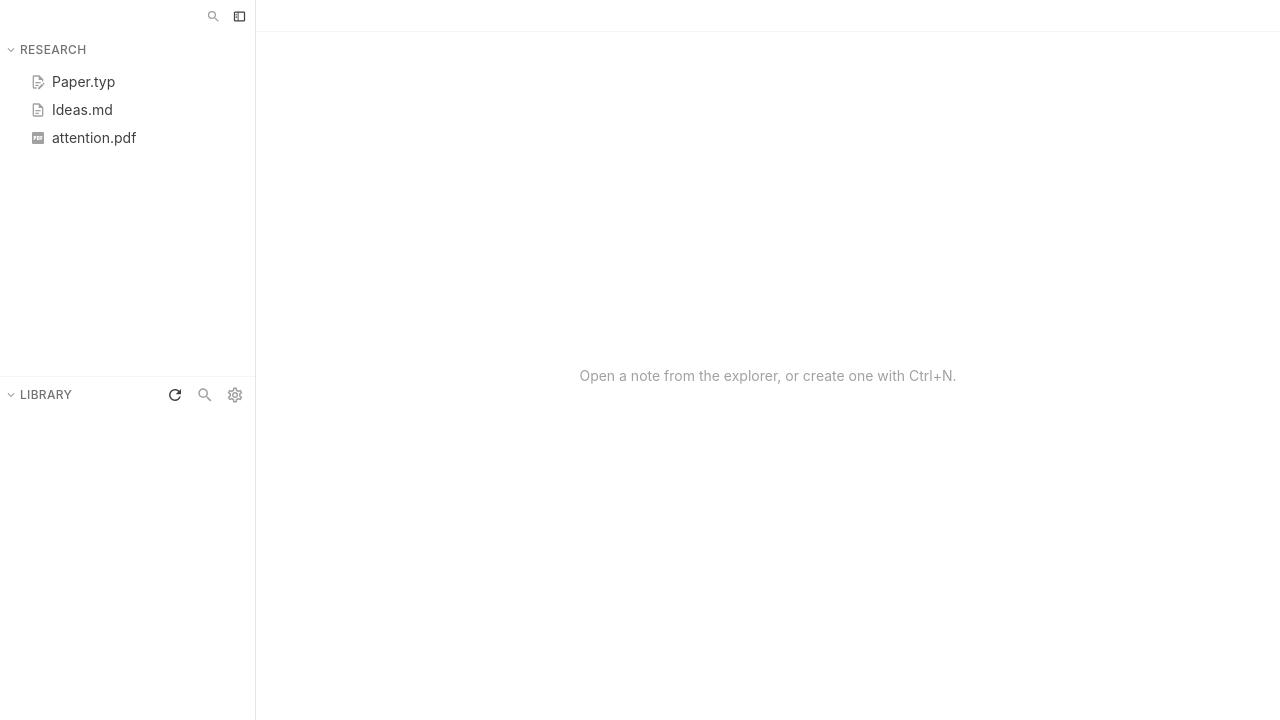
Test: Deleting a file from the explorer › confirming deletes it, and it leaves the explorer
Check: the text "Paper.typ" is shown, box [52,72,115,92]
Right-click the button "attention.pdf" at (128, 138), box [6,124,249,152]
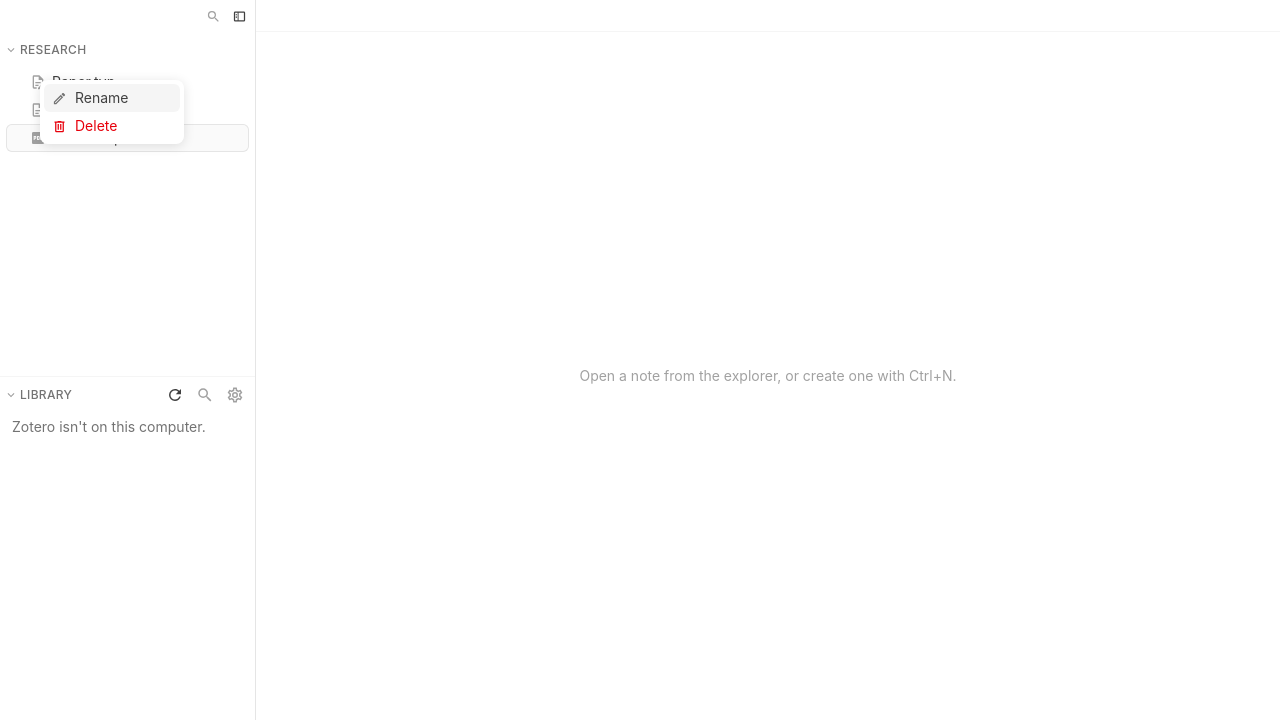
Click the menu item "Delete" at (112, 126), box [44,112,180,140]
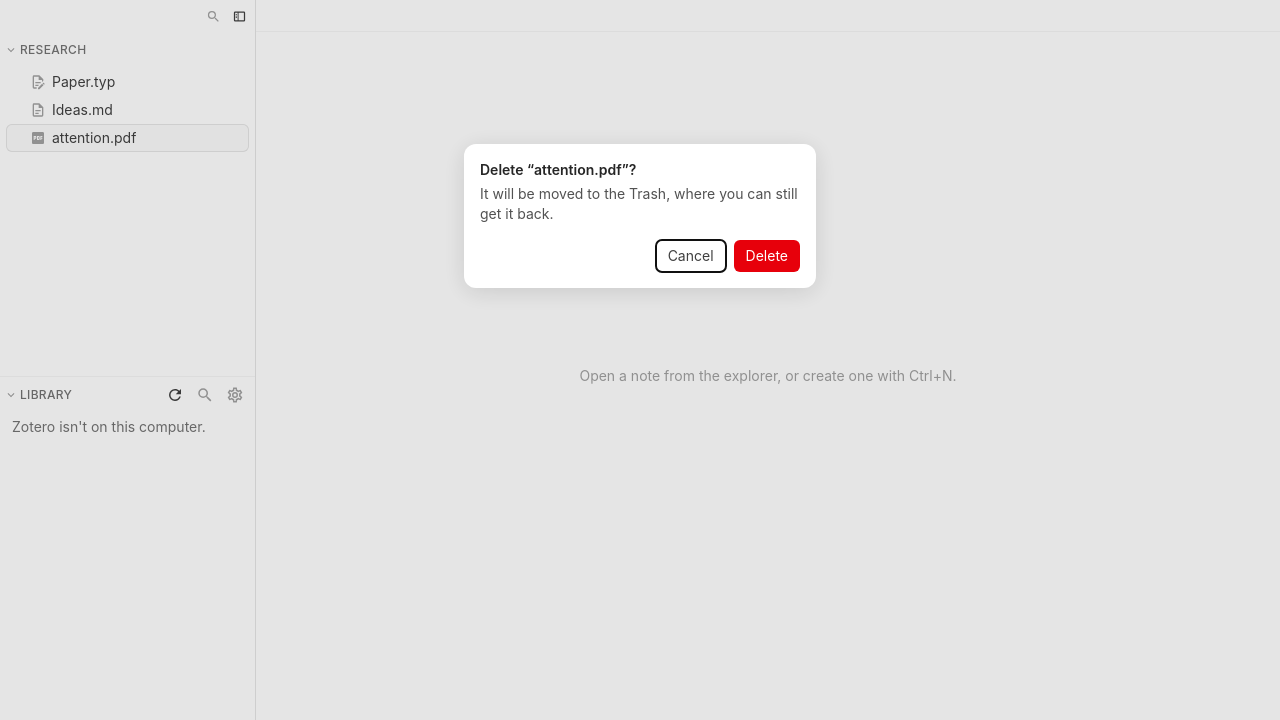
Click the button "Delete" at (767, 256), box [734,240,800,272]
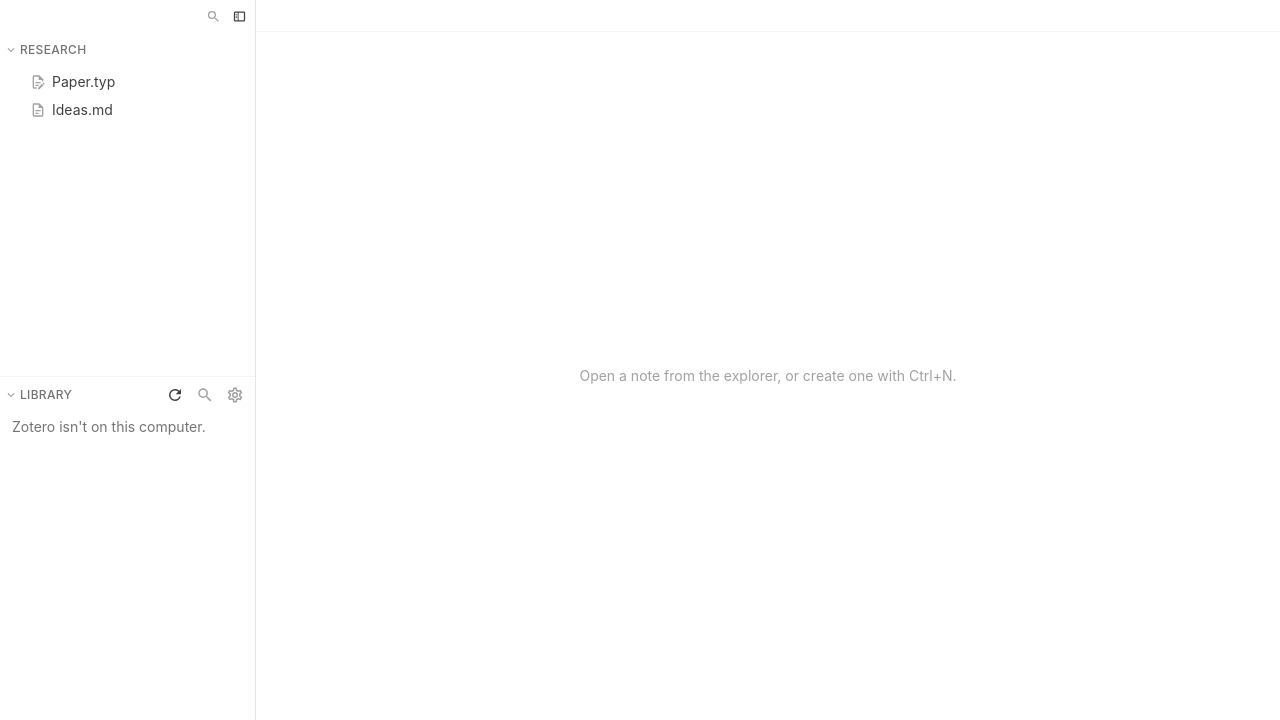
Check: the button "attention.pdf" is gone
